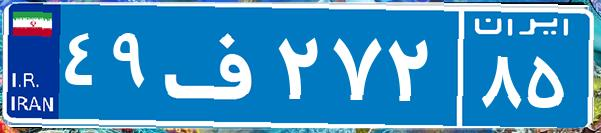2: (385, 28, 445, 110), (273, 28, 330, 110)
4: (57, 26, 110, 107)
5: (525, 38, 570, 115)
7: (330, 28, 385, 110)
8: (475, 38, 525, 113)
9: (110, 28, 158, 105)
ف: (158, 15, 273, 115)
